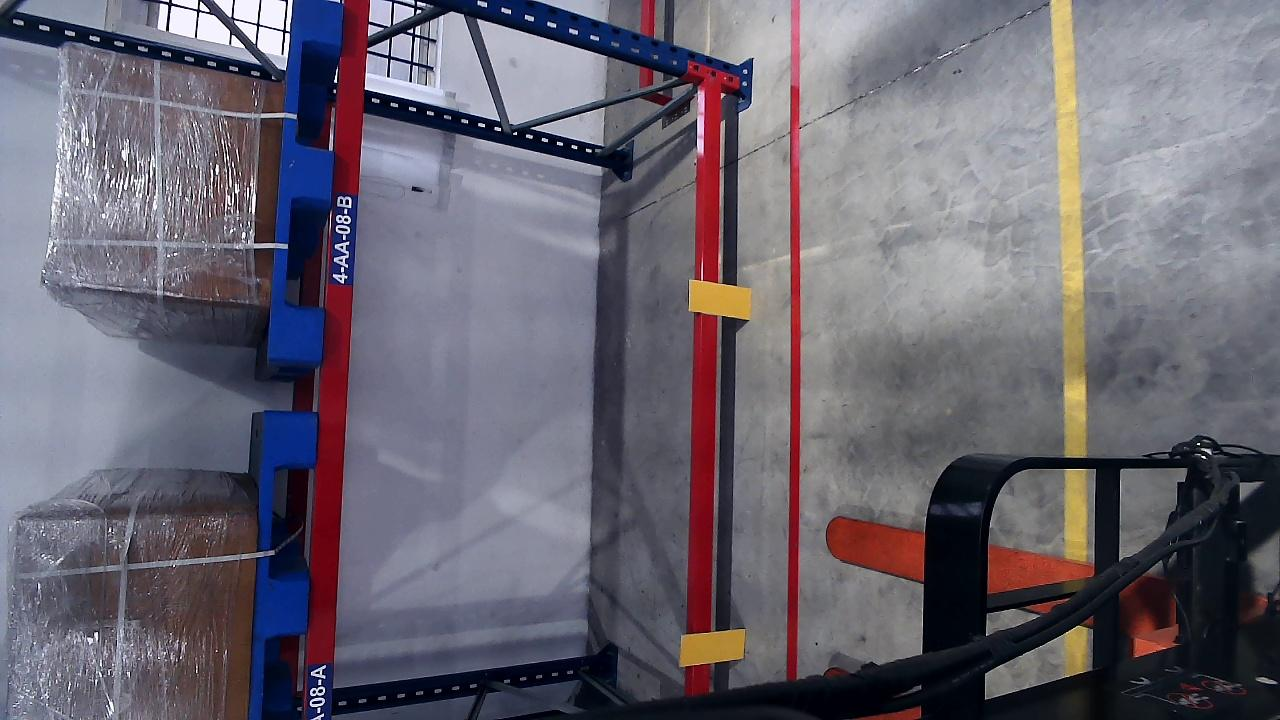h_rack: (303, 0, 369, 720), (687, 79, 725, 691)
orange_strip: (688, 280, 751, 320), (680, 630, 745, 666)
red_line: (785, 0, 803, 679)
small_pallet: (270, 1, 343, 365), (245, 414, 317, 720)
yellow_line: (1051, 1, 1090, 671)
